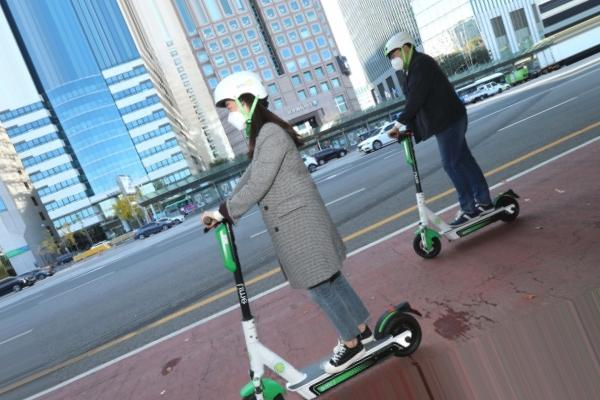scooter: (202, 215, 424, 400), (386, 123, 521, 258)
with helmet: (212, 70, 267, 128), (384, 30, 416, 71)
